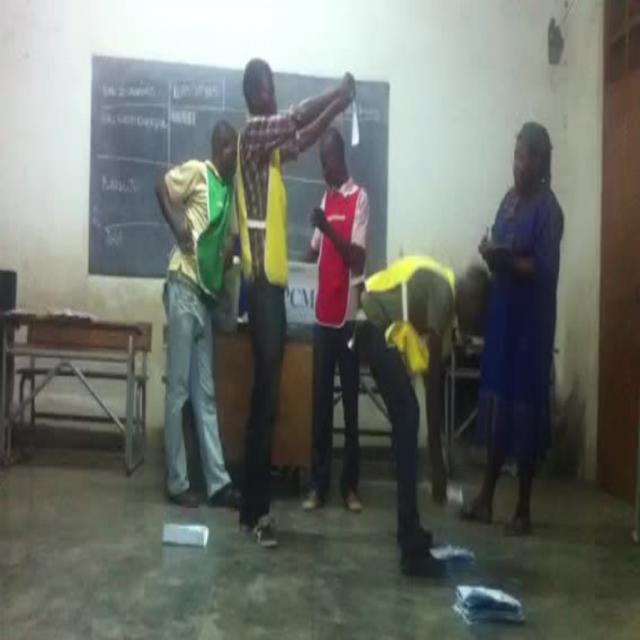desk: (5, 296, 164, 480)
person: (232, 54, 356, 549), (464, 119, 564, 534), (154, 117, 238, 507), (302, 123, 368, 520)
